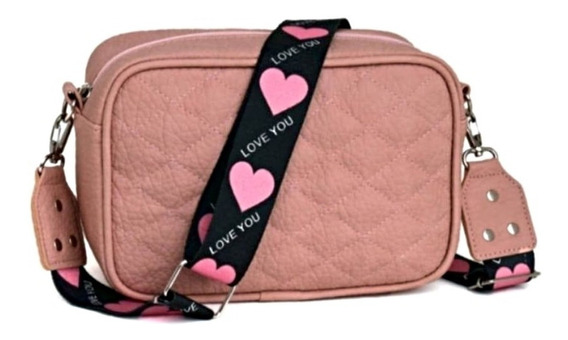cartera: (31, 17, 541, 321)
